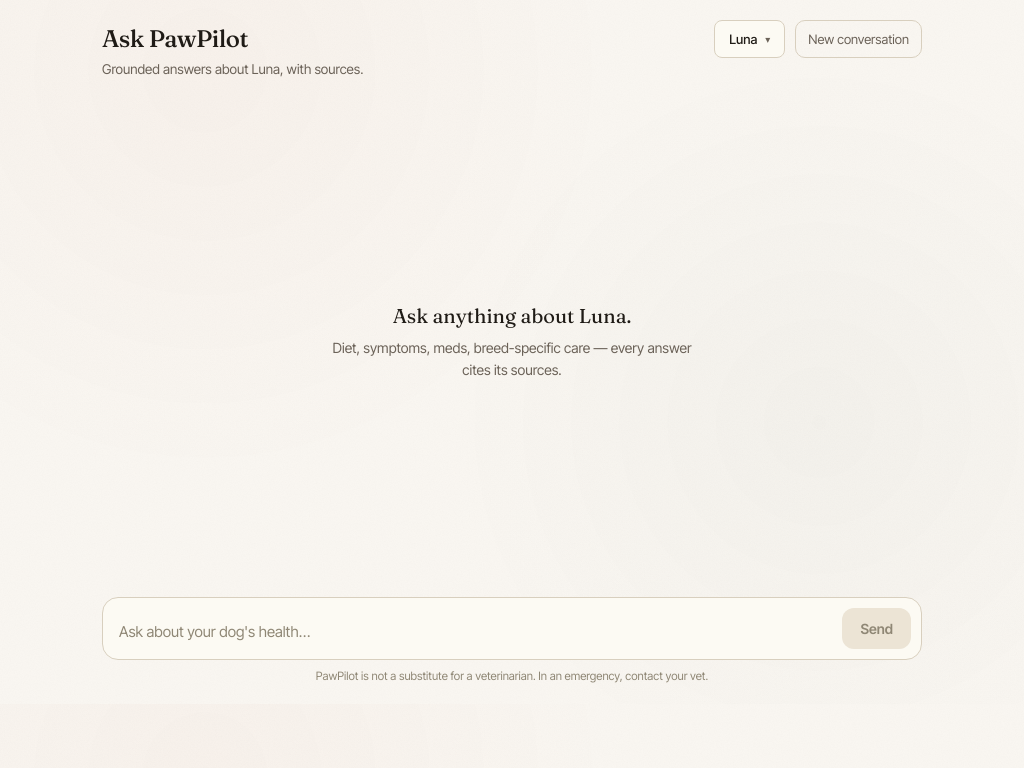
ChatView › streams an answer with citations for a submitted question
The image size is (1024, 768).
In the text box named "ask pawpilot": x=476, y=632 [119, 615, 832, 649], type "How much exercise?"
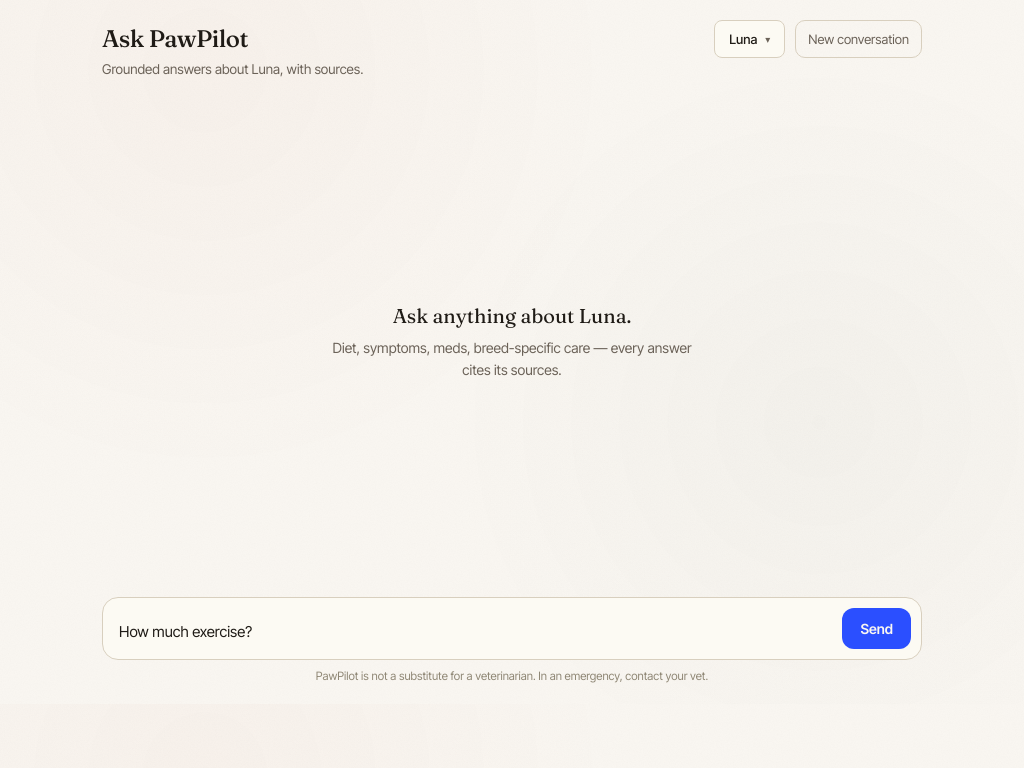
Click the button "Send": x=877, y=628 [842, 608, 911, 649]
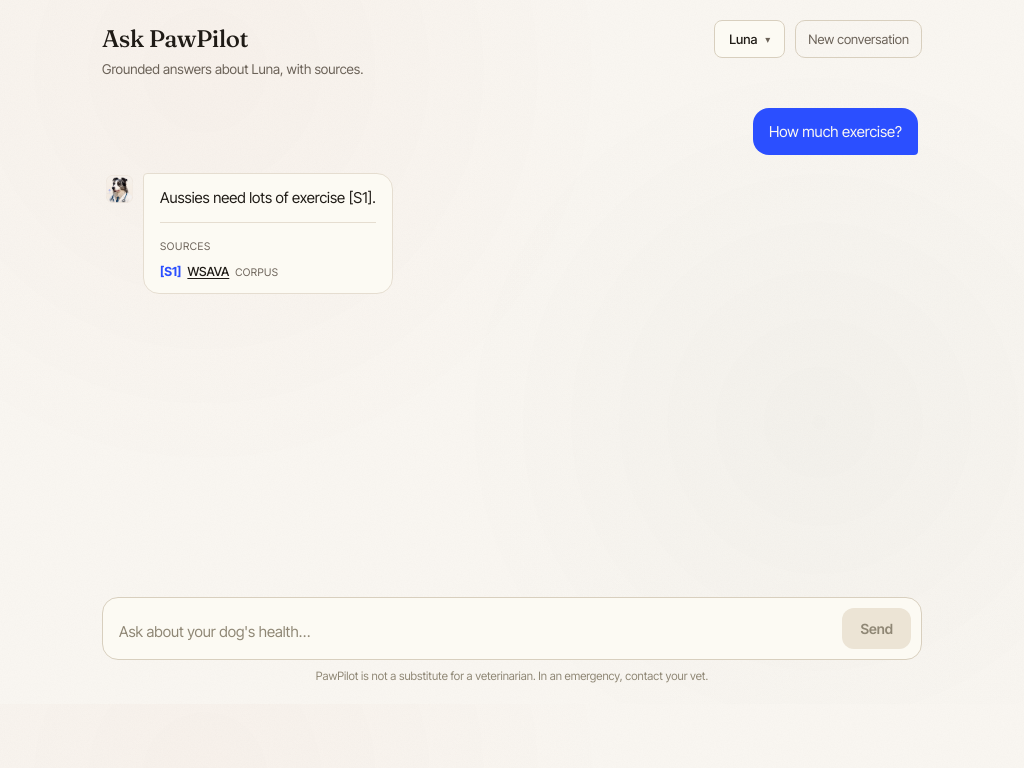
Expected: the text "Aussies need lots of exercise [S1]." is shown, [160, 186, 376, 210]
Expected: the text "How much exercise?" is shown, [753, 108, 918, 155]
